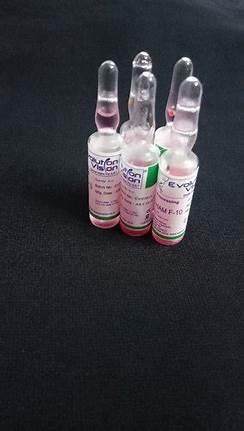Syringe: (158, 62, 203, 238), (120, 70, 167, 234), (83, 56, 124, 228)
